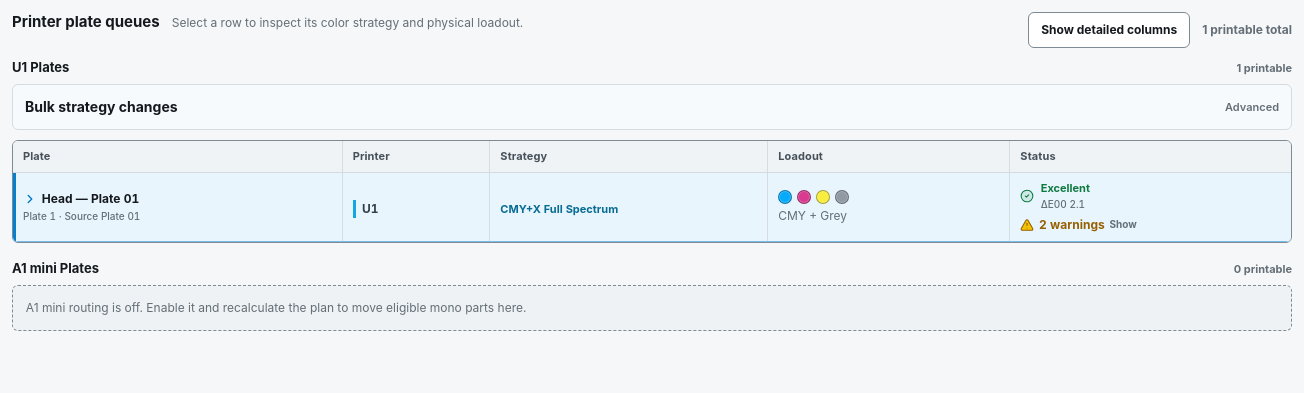
it: PlateTable warnings › exposes the full plate warning text through a native disclosure
Click the heading "2 warnings".
click(1079, 225)  # box left=1020, top=216, right=1137, bottom=234
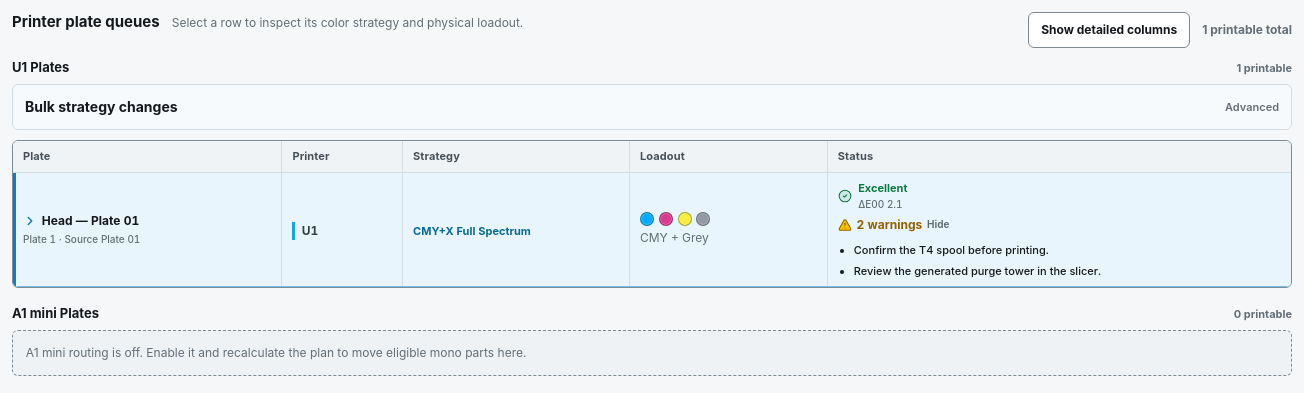
Now the list item "Confirm the T4 spool before printing." is shown, box left=854, top=243, right=1049, bottom=257
Now the list item "Review the generated purge tower in the slicer." is shown, box left=854, top=264, right=1126, bottom=279
